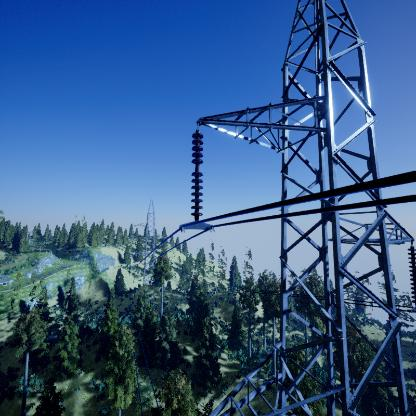insulator: (189, 130, 205, 218)
